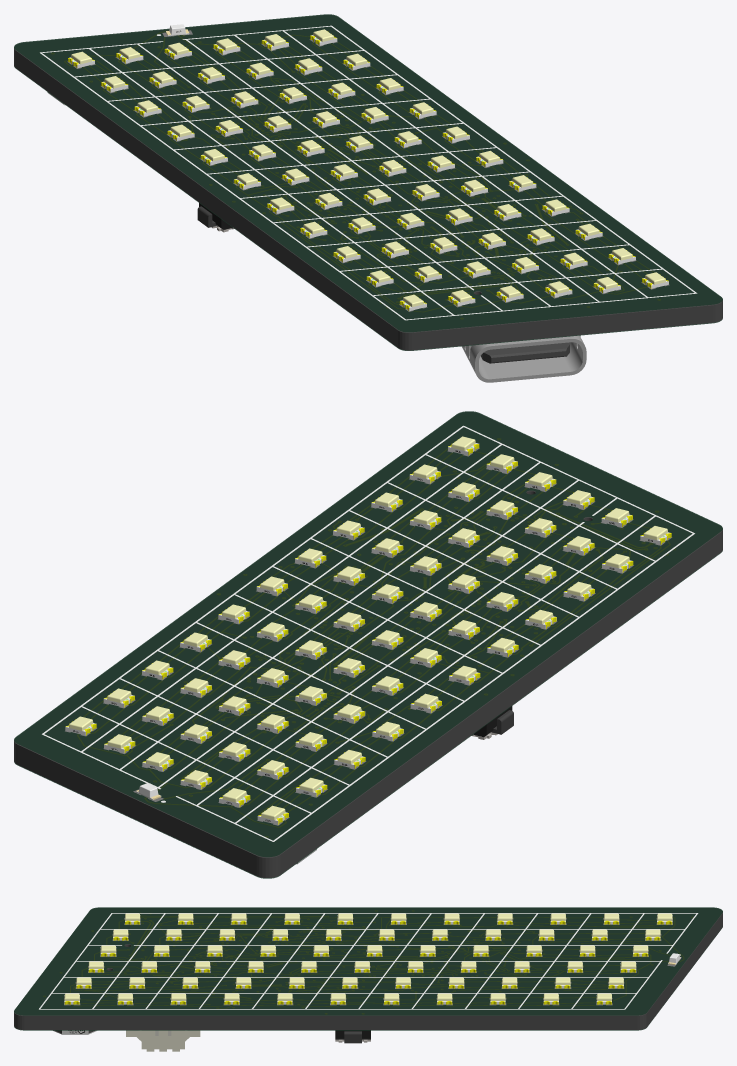
File: board.glb
3 renders of one model, top to bottom at view 1: azimuth 30°, elevation 25°; view 2: azimuth 150°, elevation 25°; view 3: azimuth 270°, elevation 25°, orthographic. The views are drawn at different scales.
Visible parts, largest first — view 1: parallelogram_soldermask (×2), parallelogram_PCB, parallelogram_silkscreen, USB-C-SMD_TYPE-C-31-M-22, parallelogram_copper, parallelogram_pad; view 2: parallelogram_soldermask (×2), parallelogram_PCB, parallelogram_silkscreen, parallelogram_copper, parallelogram_pad; view 3: parallelogram_soldermask (×2), parallelogram_PCB, parallelogram_silkscreen, parallelogram_pad, parallelogram_copper, Molex_PicoBlade_53261-0271_1x02-1MP_P1.25mm_Horizontal, SW-SMD_EVQP7C01P-L3.6-W3.5-H1.4-P3.6-LS4.7.
Part boxes in pixels (box(x1,y1,x2,y2)): parallelogram_soldermask (×2): box(14, 14, 722, 350); parallelogram_PCB: box(14, 15, 722, 350); parallelogram_silkscreen: box(40, 25, 697, 320); USB-C-SMD_TYPE-C-31-M-22: box(461, 335, 586, 382); parallelogram_copper: box(51, 31, 660, 318); parallelogram_pad: box(67, 30, 669, 311); parallelogram_soldermask (×2): box(14, 411, 722, 878); parallelogram_PCB: box(14, 412, 722, 877); parallelogram_silkscreen: box(42, 425, 694, 841); parallelogram_copper: box(77, 439, 675, 837); parallelogram_pad: box(64, 448, 672, 825); parallelogram_soldermask (×2): box(14, 907, 722, 1030); parallelogram_PCB: box(14, 908, 722, 1029); parallelogram_silkscreen: box(39, 913, 698, 1009); parallelogram_pad: box(64, 918, 681, 1005); parallelogram_copper: box(43, 916, 682, 1008); Molex_PicoBlade_53261-0271_1x02-1MP_P1.25mm_Horizontal: box(126, 1030, 200, 1051); SW-SMD_EVQP7C01P-L3.6-W3.5-H1.4-P3.6-LS4.7: box(335, 1030, 370, 1043).
Size of the model in its own units: 0.0259 by 0.00568 by 0.0693.
